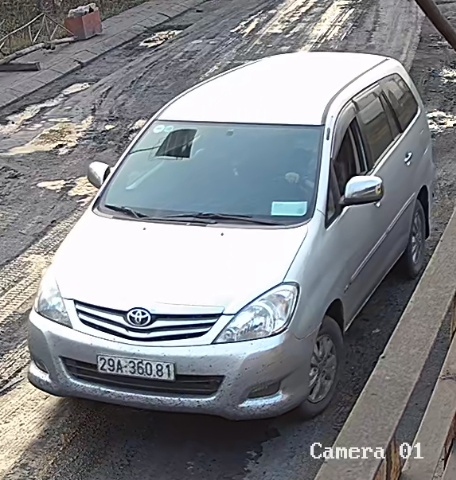vehicle plate: (94, 347, 178, 382)
